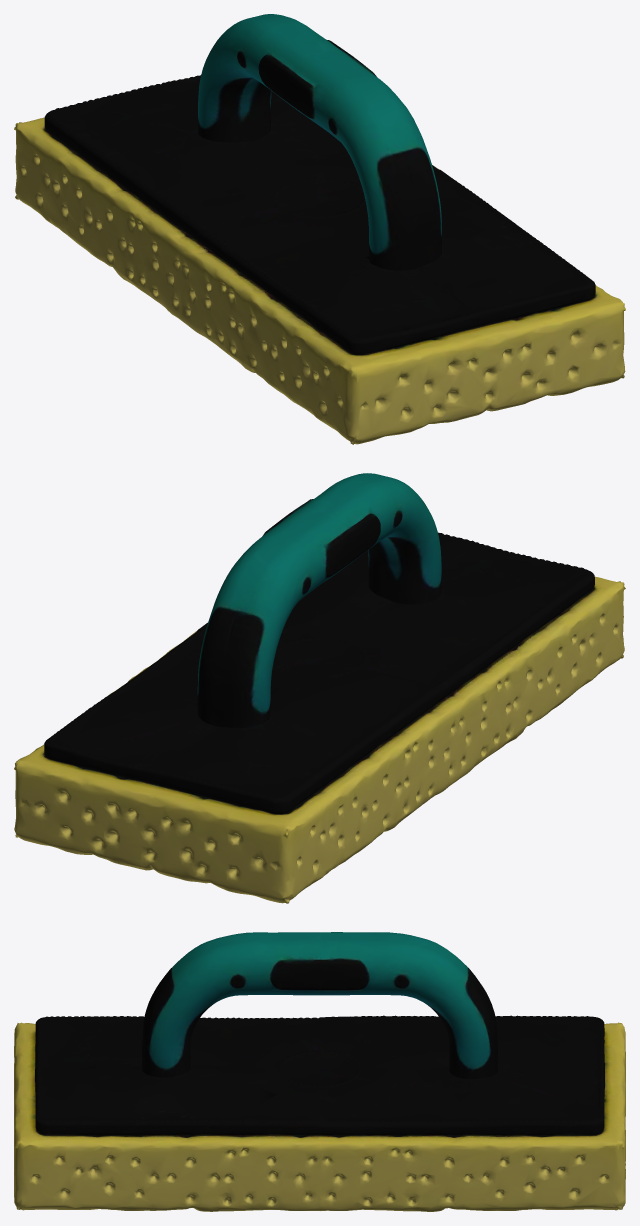
The model's file is grout-float.glb.
3 views of the same model, one above another, from view 1: azimuth 30°, elevation 25°; view 2: azimuth 150°, elevation 25°; view 3: azimuth 270°, elevation 25° (orthographic). The views are drawn at different scales.
Visible parts, largest first — view 1: tripo_node_0dc3dc1e-b764-4cc6-8c1c-61ceb2b69b23; view 2: tripo_node_0dc3dc1e-b764-4cc6-8c1c-61ceb2b69b23; view 3: tripo_node_0dc3dc1e-b764-4cc6-8c1c-61ceb2b69b23.
Part boxes in pixels (x1,y1,x2,y2): tripo_node_0dc3dc1e-b764-4cc6-8c1c-61ceb2b69b23: [14, 14, 625, 444]; tripo_node_0dc3dc1e-b764-4cc6-8c1c-61ceb2b69b23: [14, 473, 625, 903]; tripo_node_0dc3dc1e-b764-4cc6-8c1c-61ceb2b69b23: [14, 932, 625, 1211].
Bounding box in the file's own units: 0.4707 × 0.3982 × 1.
1 material, 1 textured.
